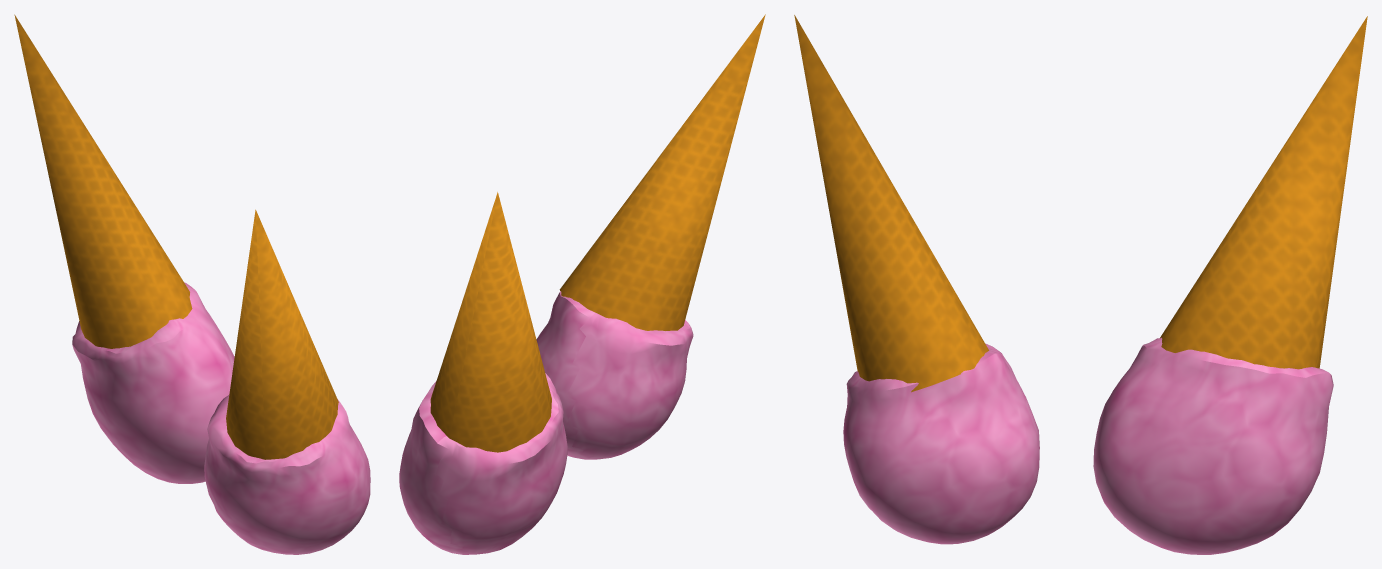
File: Ice_Cream_DSC.fbx
3 renders of one model, left to right at view 1: azimuth 30°, elevation 25°; view 2: azimuth 150°, elevation 25°; view 3: azimuth 270°, elevation 25°, orthographic. The views are drawn at different scales.
Parts seen in each view (by area): view 1: Ice_Cream_L, Ice_Cream_R; view 2: Ice_Cream_R, Ice_Cream_L; view 3: Ice_Cream_L, Ice_Cream_R.
Part boxes in pixels (left/top/right/bottom): Ice_Cream_L: left=14, top=14, right=234, bottom=483; Ice_Cream_R: left=204, top=209, right=370, bottom=554; Ice_Cream_R: left=536, top=14, right=765, bottom=459; Ice_Cream_L: left=399, top=192, right=567, bottom=554; Ice_Cream_L: left=1093, top=16, right=1367, bottom=554; Ice_Cream_R: left=794, top=15, right=1039, bottom=544.
Size of the model in its own units: 41.1 by 103 by 111.
1 material, 1 textured.
